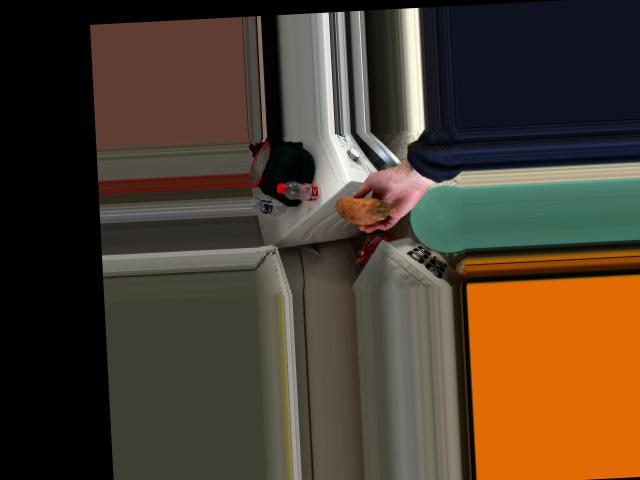sweet_potato: (331, 191, 399, 222)
